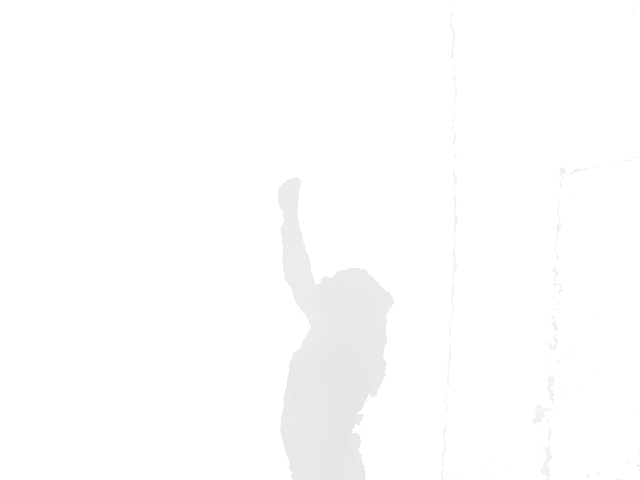hand: (278, 178, 303, 211)
head: (311, 266, 395, 338)
person: (277, 177, 395, 480)
